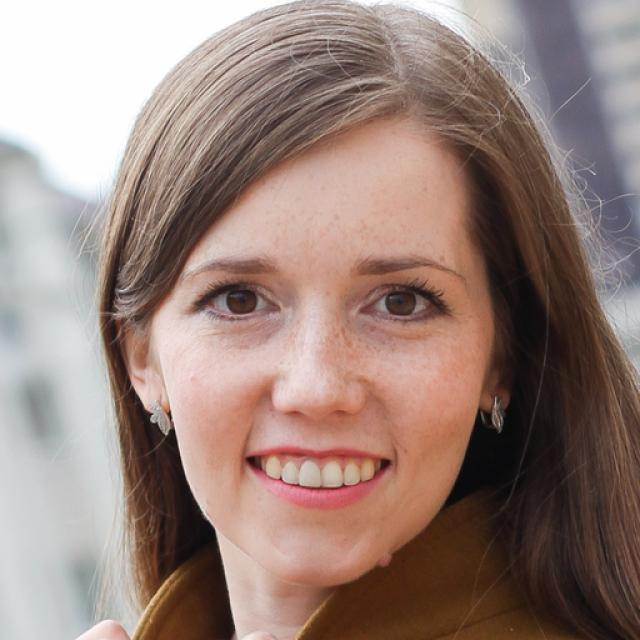Pigmentation: (319, 320, 403, 363)
